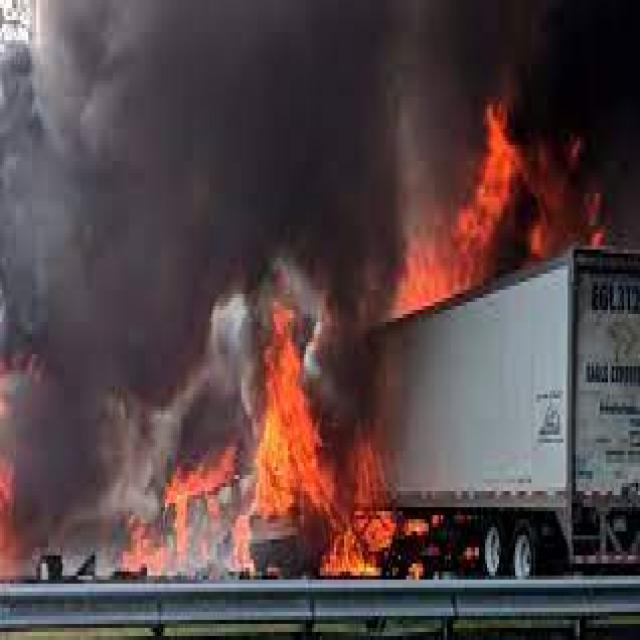fire: (258, 302, 424, 584), (386, 113, 520, 306), (125, 434, 258, 576), (521, 136, 604, 262), (2, 463, 20, 580)
smoke: (95, 391, 181, 524), (211, 294, 254, 431)
